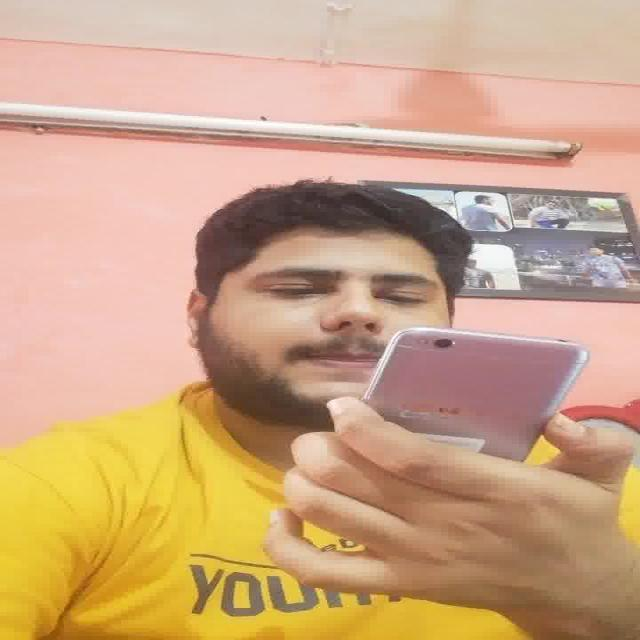Phone: (369, 326, 591, 460)
